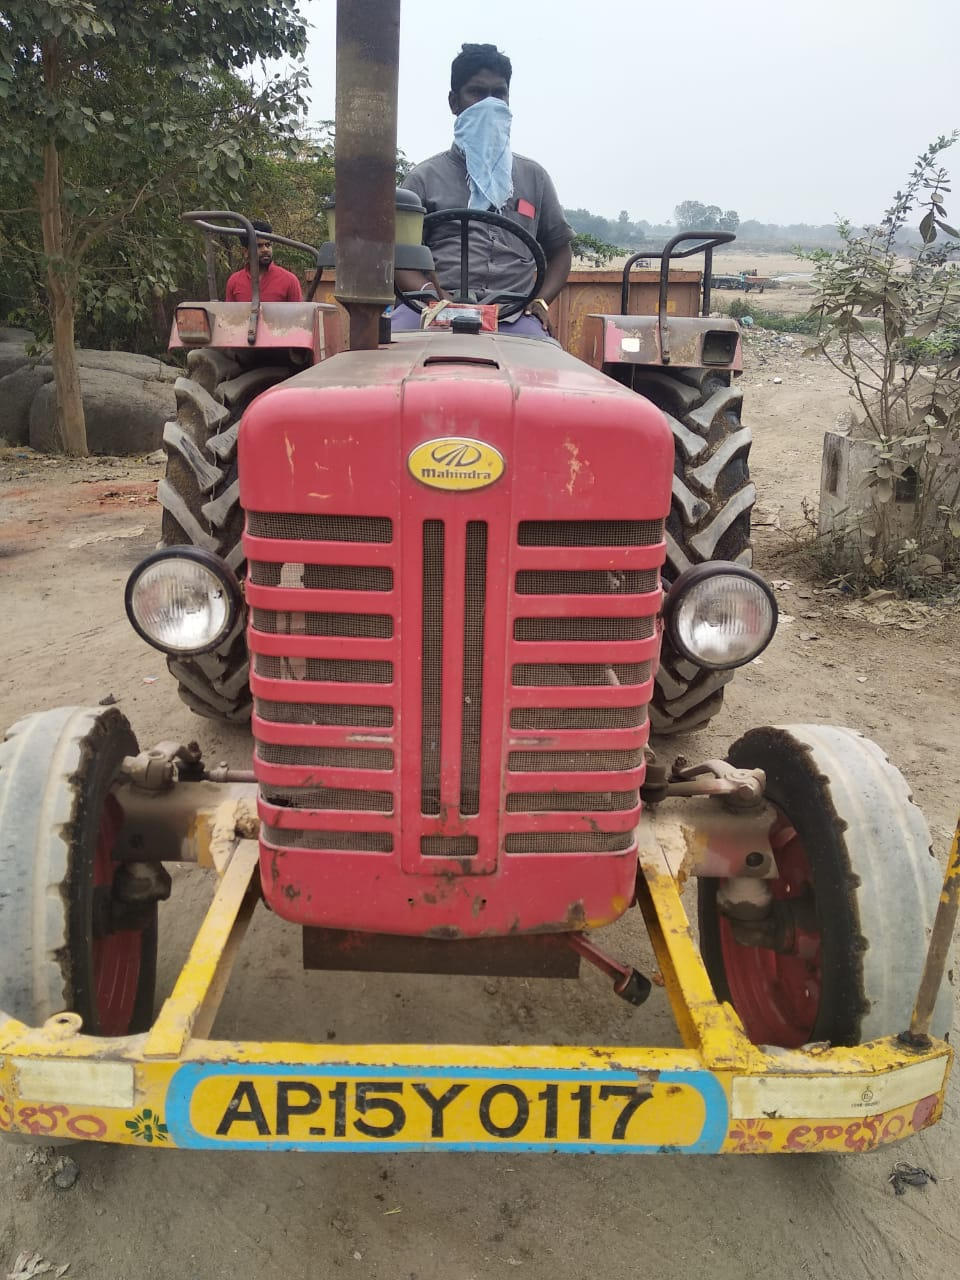license_plate: (177, 1068, 704, 1153)
